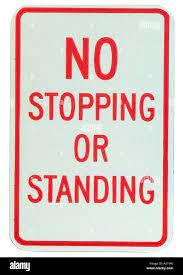No Stopping: (22, 24, 165, 213)
